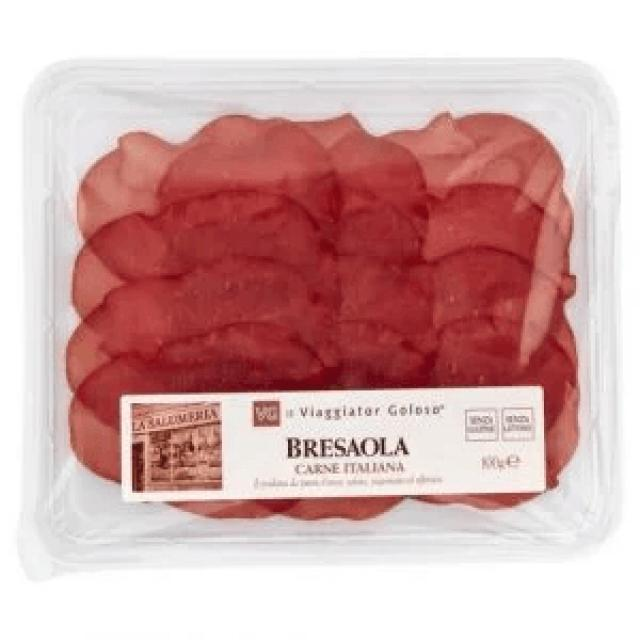Ham: (21, 58, 619, 580)
